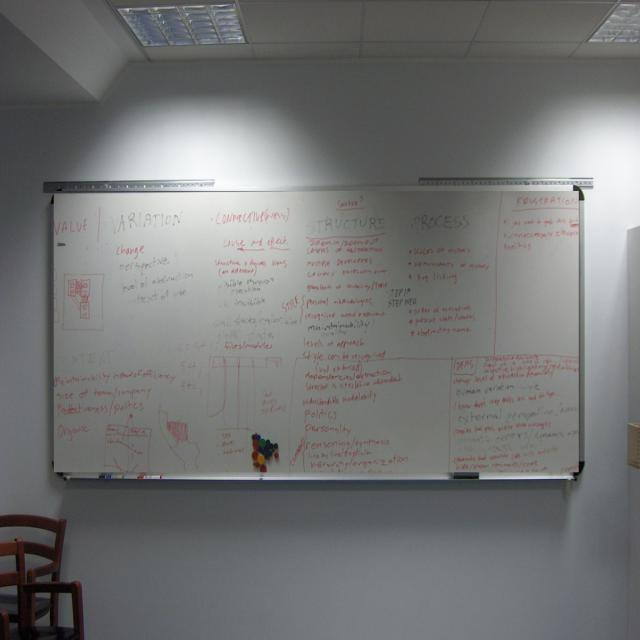Whiteboard: (49, 182, 585, 480)
